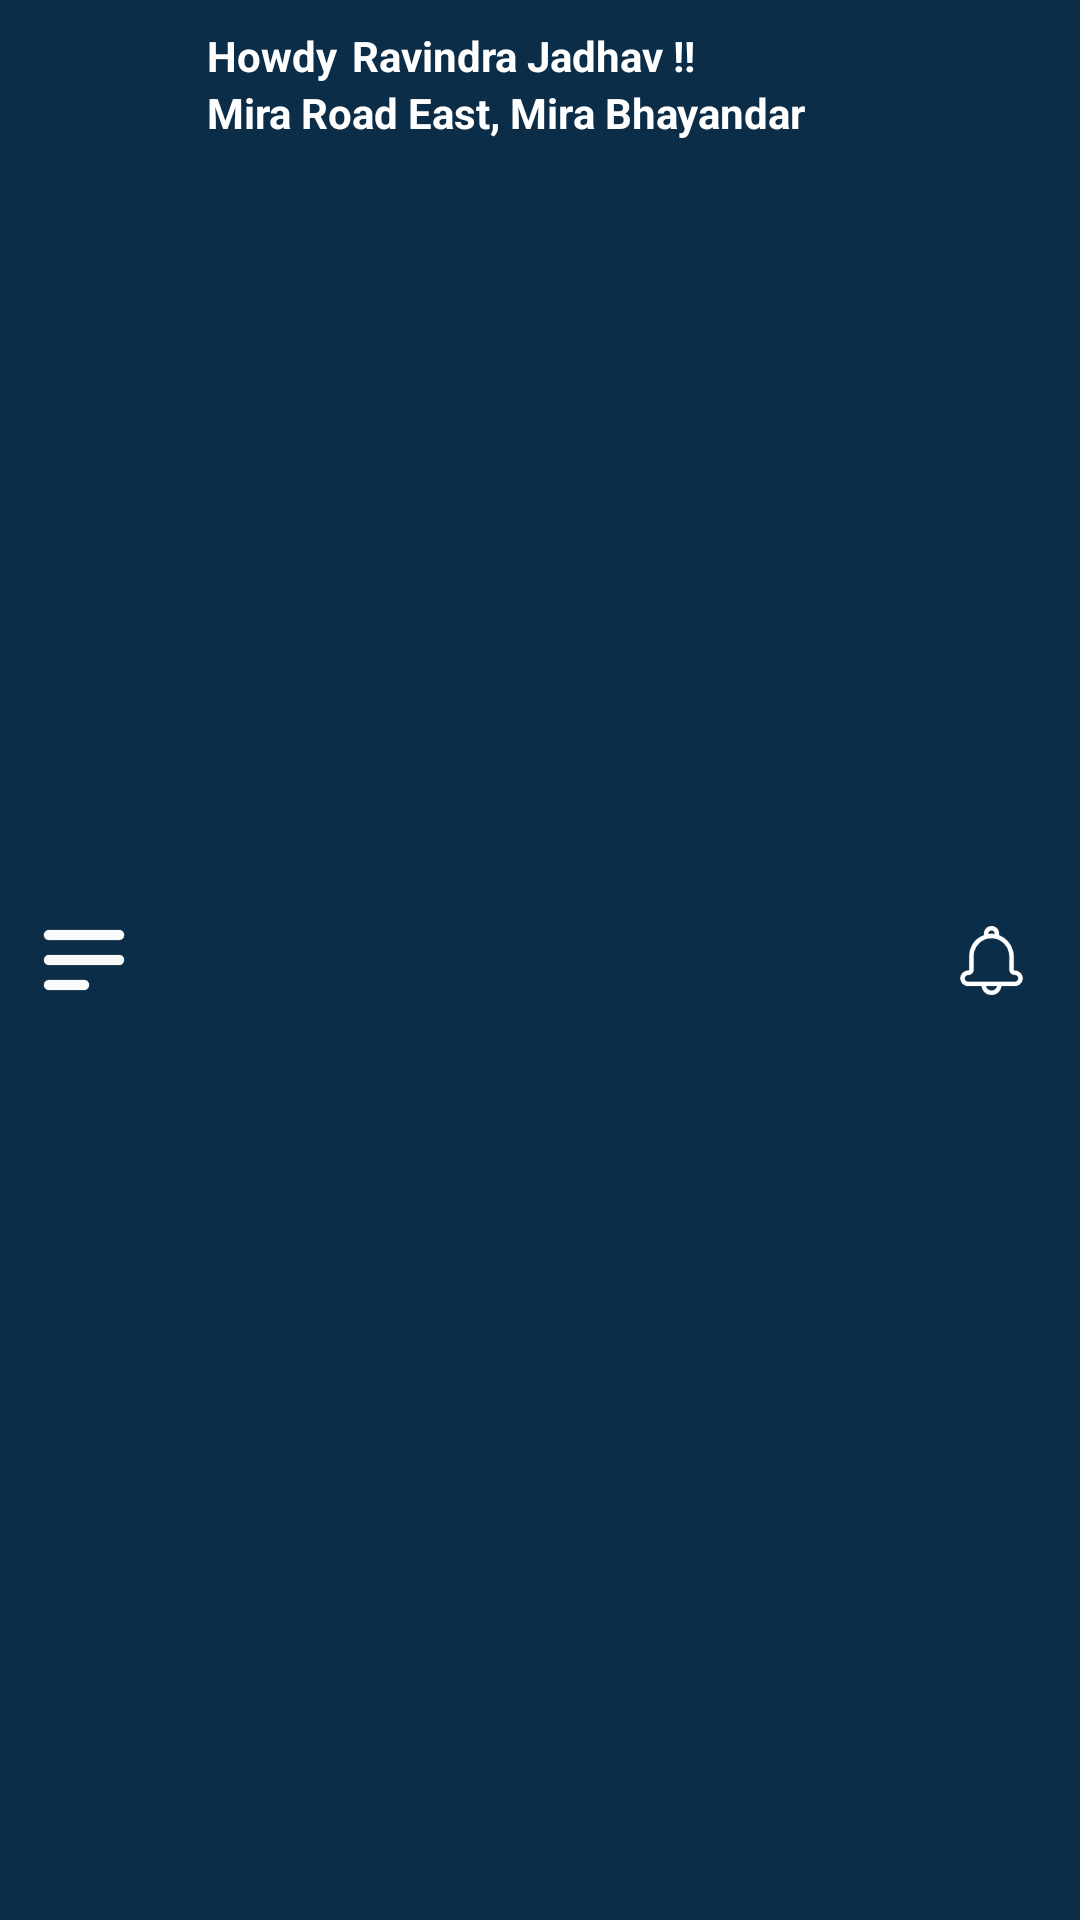

Icon click points for this 1080 × 1920 phone screenshot, format (x,y):
drawer: (84,960)
notification: (991,960)
